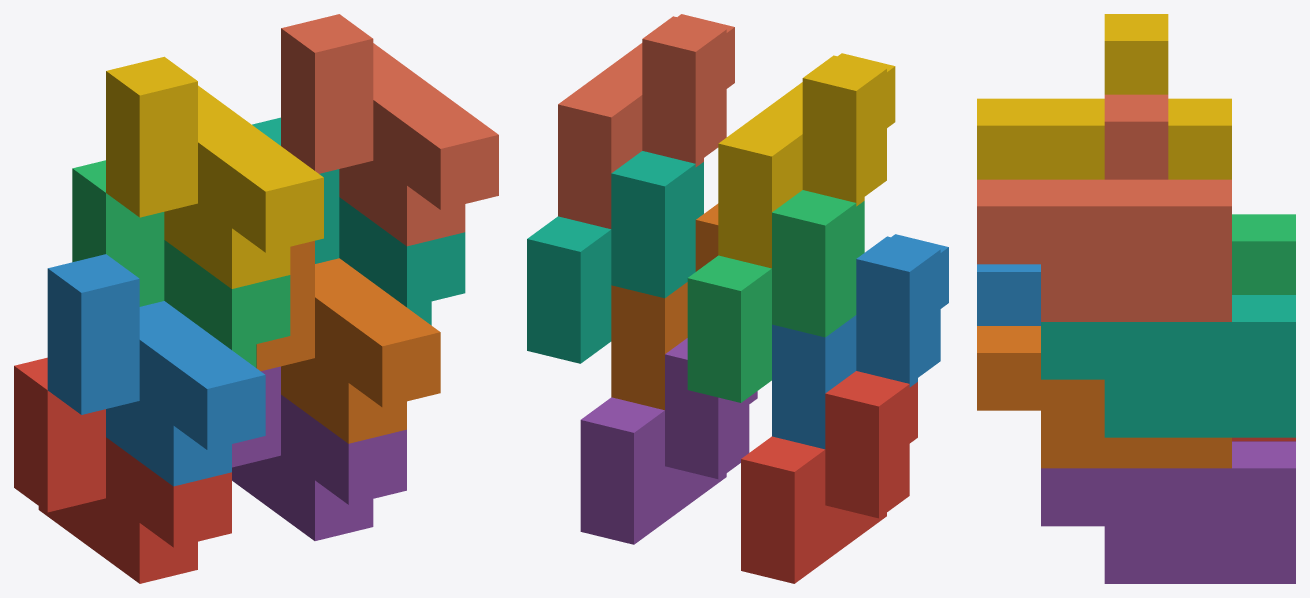
Rendered from tiling.obj.
3 views of the same model, side by side, from view 1: azimuth 30°, elevation 25°; view 2: azimuth 150°, elevation 25°; view 3: azimuth 270°, elevation 25° (orthographic). The views are drawn at different scales.
Parts seen in each view (by area): view 1: copy_1_domain_4, copy_1_domain_8, copy_1_domain_2, copy_1_domain_1, copy_1_domain_6, copy_1_domain_5, copy_1_domain_3, copy_1_domain_7; view 2: copy_1_domain_1, copy_1_domain_3, copy_1_domain_4, copy_1_domain_7, copy_1_domain_8, copy_1_domain_5, copy_1_domain_2, copy_1_domain_6; view 3: copy_1_domain_8, copy_1_domain_5, copy_1_domain_7, copy_1_domain_4, copy_1_domain_6, copy_1_domain_3, copy_1_domain_2.
Part boxes in pixels (x1,y1,x2,y2): copy_1_domain_4: (106,56,323,288); copy_1_domain_8: (281,14,498,246); copy_1_domain_2: (47,254,265,486); copy_1_domain_1: (14,357,231,583); copy_1_domain_6: (256,240,440,443); copy_1_domain_5: (232,366,406,540); copy_1_domain_3: (72,160,290,367); copy_1_domain_7: (252,117,465,325); copy_1_domain_1: (741,371,917,583); copy_1_domain_3: (687,190,864,402); copy_1_domain_4: (718,53,895,268); copy_1_domain_7: (527,151,703,363); copy_1_domain_8: (558,14,734,228); copy_1_domain_5: (580,338,757,544); copy_1_domain_2: (772,234,948,449); copy_1_domain_6: (611,203,718,410); copy_1_domain_8: (977,94,1231,321); copy_1_domain_5: (1041,441,1295,583); copy_1_domain_7: (1041,295,1295,437); copy_1_domain_4: (977,14,1231,179); copy_1_domain_6: (977,326,1231,468); copy_1_domain_3: (1232,214,1295,294); copy_1_domain_2: (977,264,1040,325).
Bounding box in the file's own units: 6 × 8 × 5.
